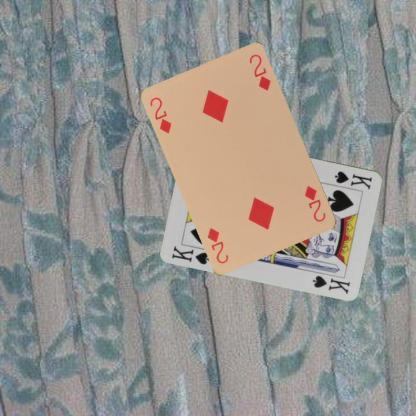2d: (302, 182, 328, 224), (148, 94, 174, 135)
Ks: (332, 168, 374, 191), (170, 243, 212, 266)
